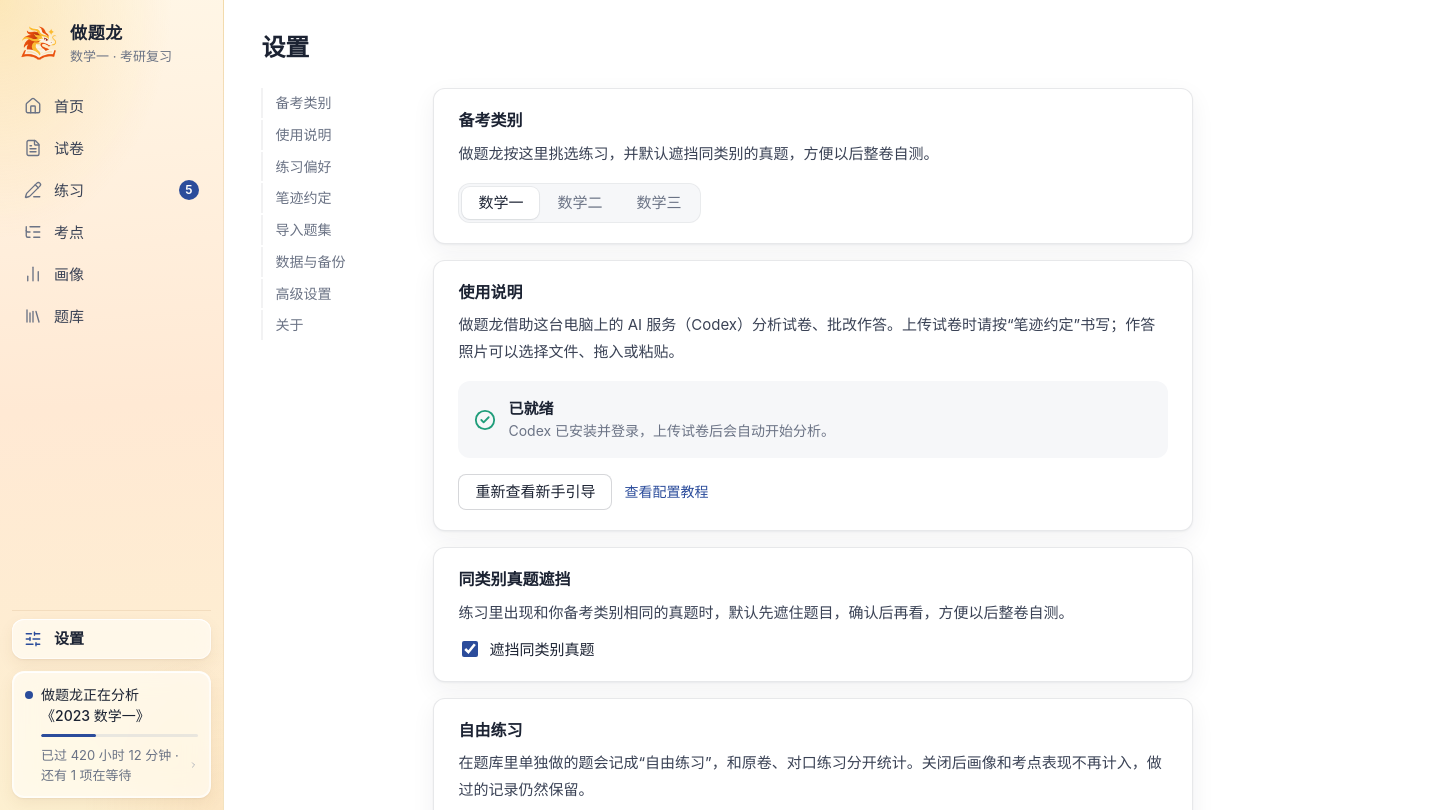
it: app shell › saves only the changed study type
This screenshot has width=1440, height=810.
Click the radio button labelled "数学二" at (580, 203), box x1=542 y1=187 x2=618 y2=219
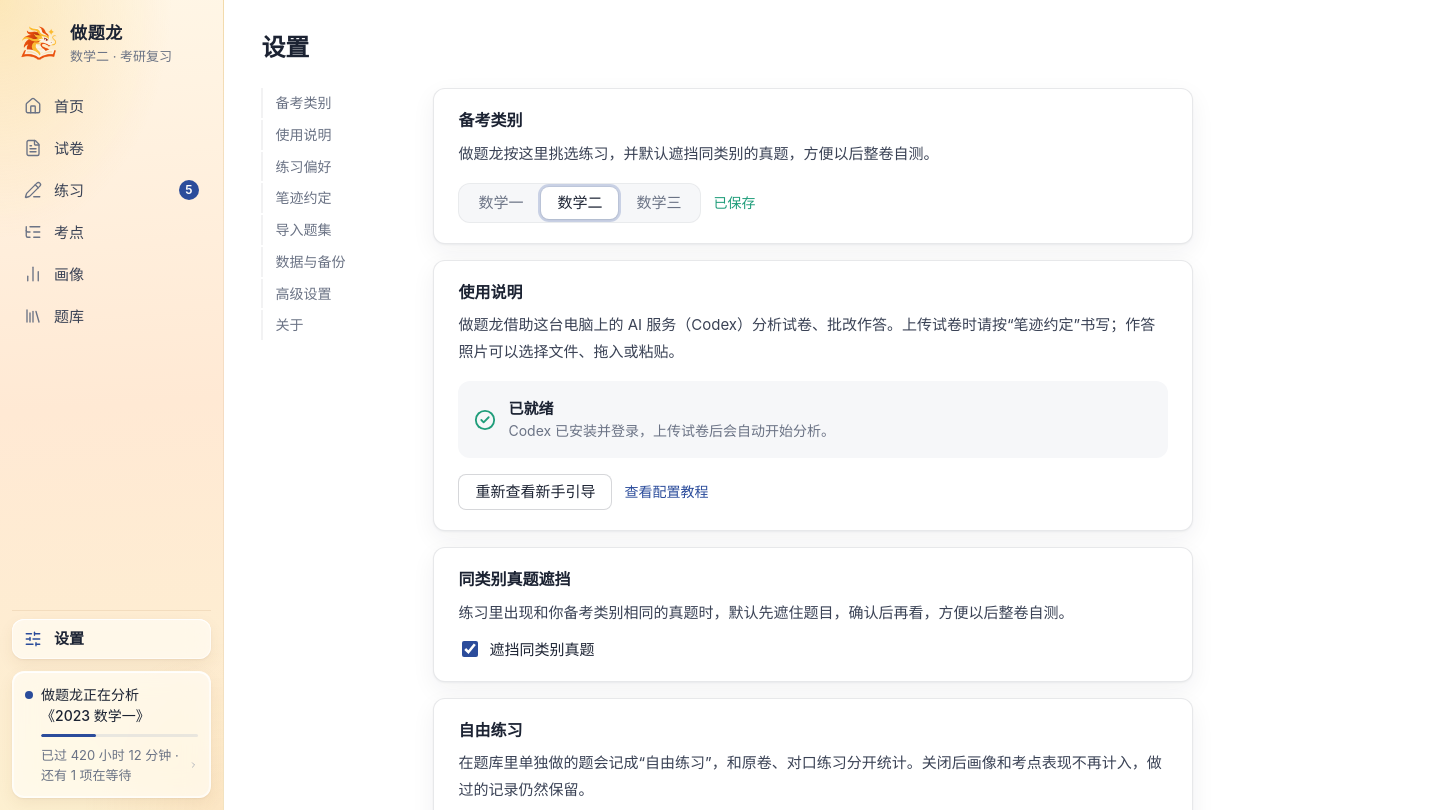
expect the text "已保存" is shown: met, box x1=714 y1=192 x2=756 y2=214
